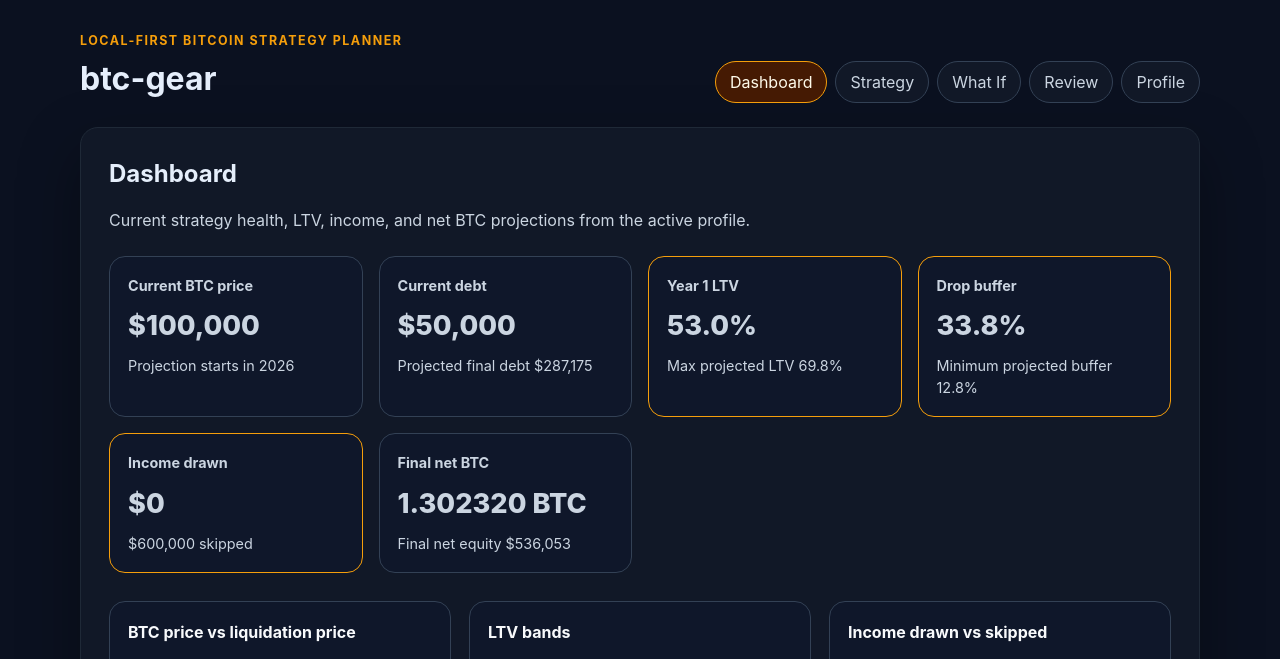
Test: App navigation › navigates to the Profile page
Click the button "Profile".
click(1161, 82)  # box [1121,61,1200,103]
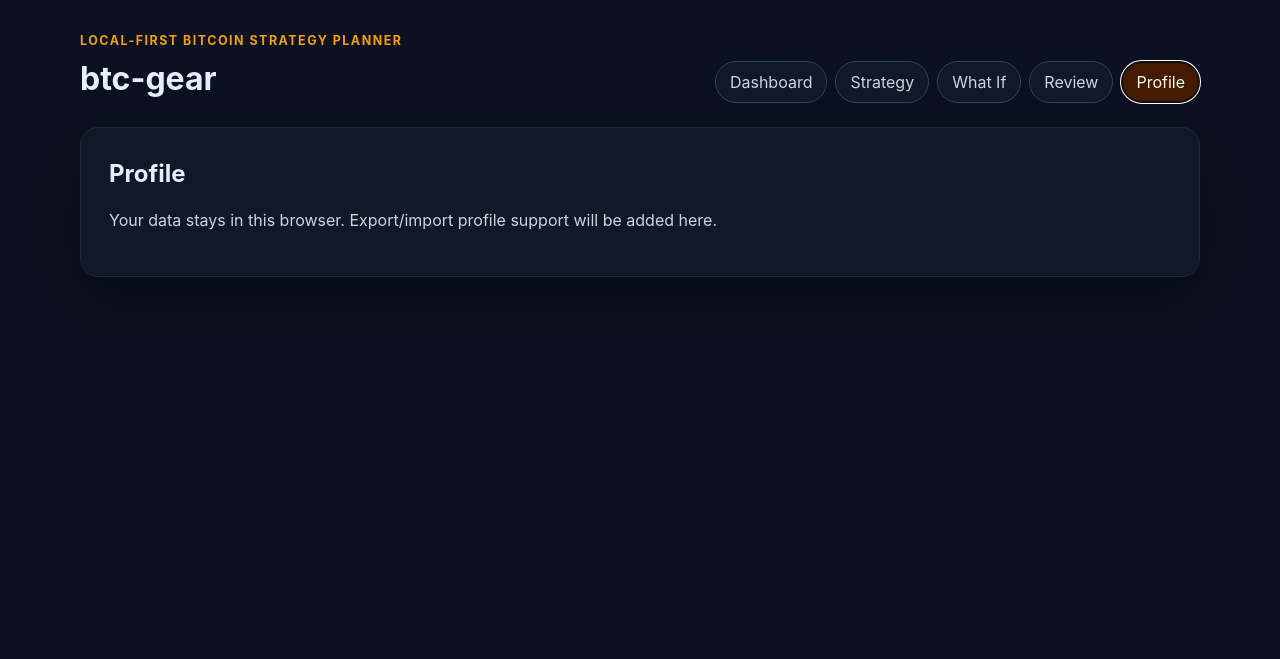
Check: the heading "Profile" is shown, box [109,159,186,188]
Check: the element named "Profile and local data" is shown, box [109,210,717,230]
